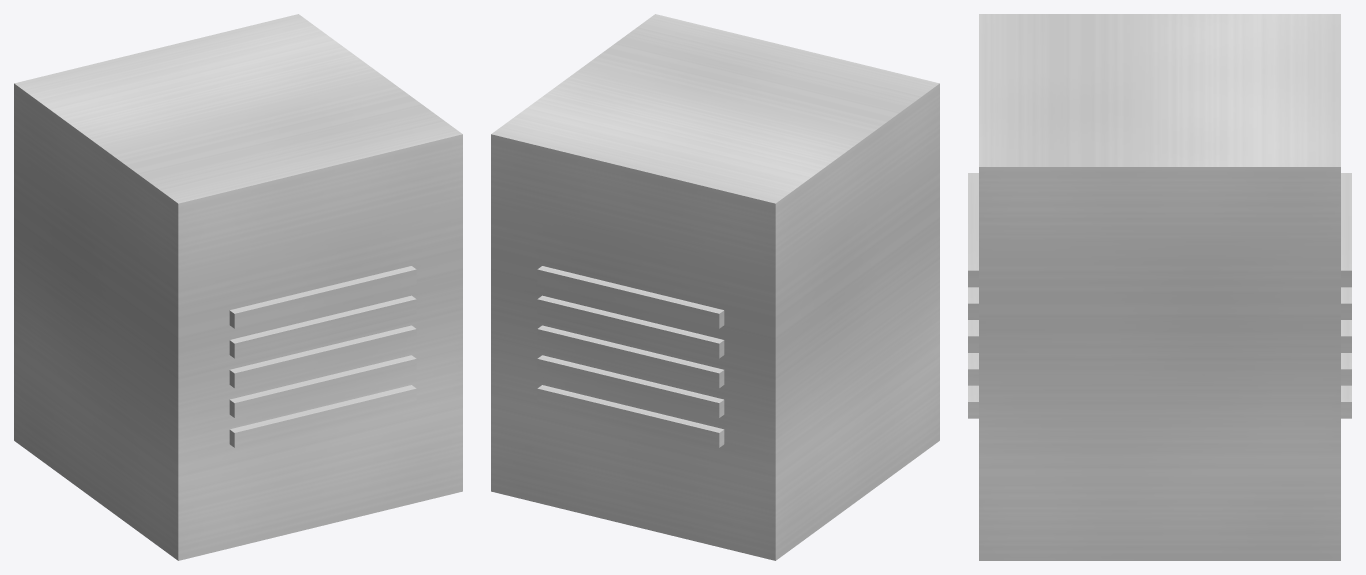
The model's file is vent.obj.
The picture shows the model from 3 angles, left to right: view 1: azimuth 30°, elevation 25°; view 2: azimuth 150°, elevation 25°; view 3: azimuth 270°, elevation 25°; orthographic projection. The views are drawn at different scales.
Parts seen in each view (by area): view 1: vent; view 2: vent; view 3: vent.
Boxes of the visible parts, <box> form: vent: <box>14,14,462,560</box>; vent: <box>491,14,939,560</box>; vent: <box>968,14,1351,560</box>.
Size of the model in its own units: 1 by 1.2 by 1.06.
